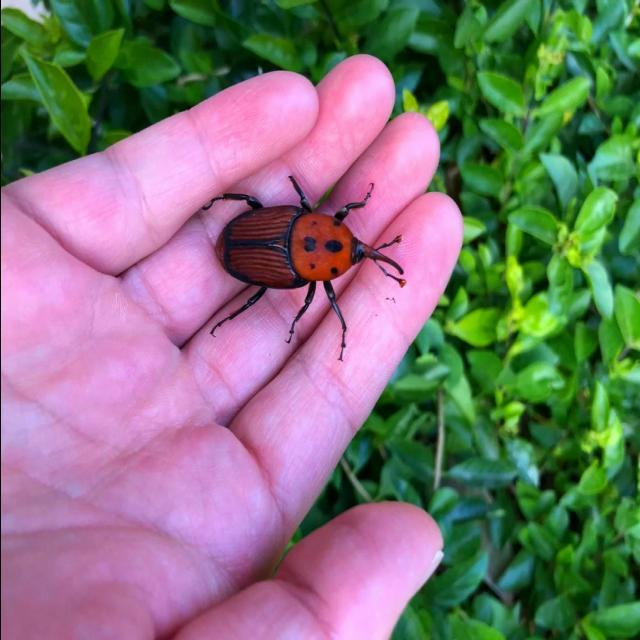Red-palm-weevil: (214, 200, 404, 292)
